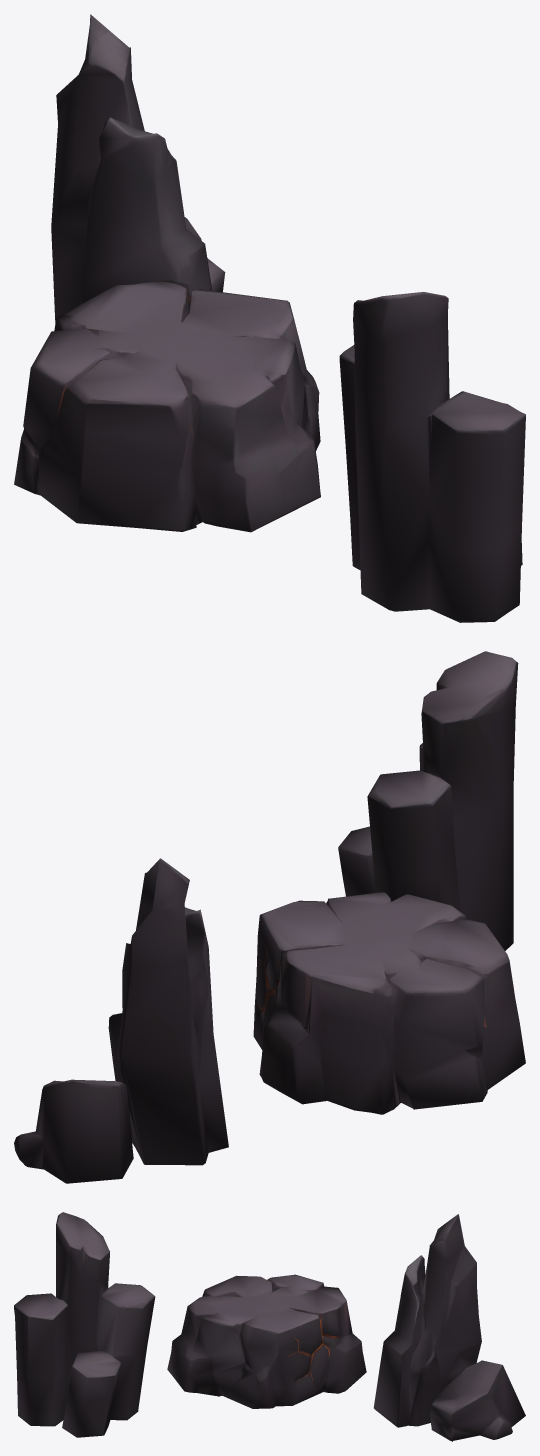
3 renders of one model, top to bottom at view 1: azimuth 30°, elevation 25°; view 2: azimuth 150°, elevation 25°; view 3: azimuth 270°, elevation 25°, orthographic. The views are drawn at different scales.
Visible parts, largest first — view 1: tripo_node_f0a1b237-aca7-478e-8524-54560a7b87cc; view 2: tripo_node_f0a1b237-aca7-478e-8524-54560a7b87cc; view 3: tripo_node_f0a1b237-aca7-478e-8524-54560a7b87cc.
Part boxes in pixels (<box>): tripo_node_f0a1b237-aca7-478e-8524-54560a7b87cc: <box>14,14,525,622</box>; tripo_node_f0a1b237-aca7-478e-8524-54560a7b87cc: <box>14,651,525,1183</box>; tripo_node_f0a1b237-aca7-478e-8524-54560a7b87cc: <box>14,1212,525,1441</box>.
Size of the model in its own units: 0.4481 by 0.4207 by 1.
1 material, 1 textured.
